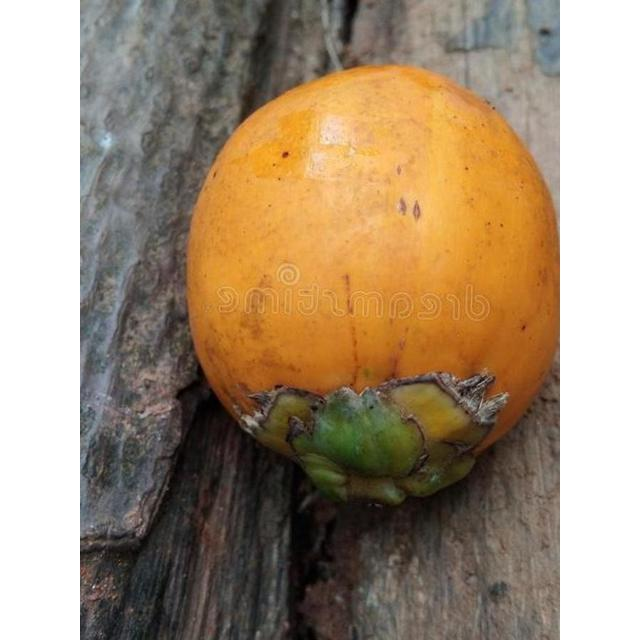good: (187, 65, 559, 508)
